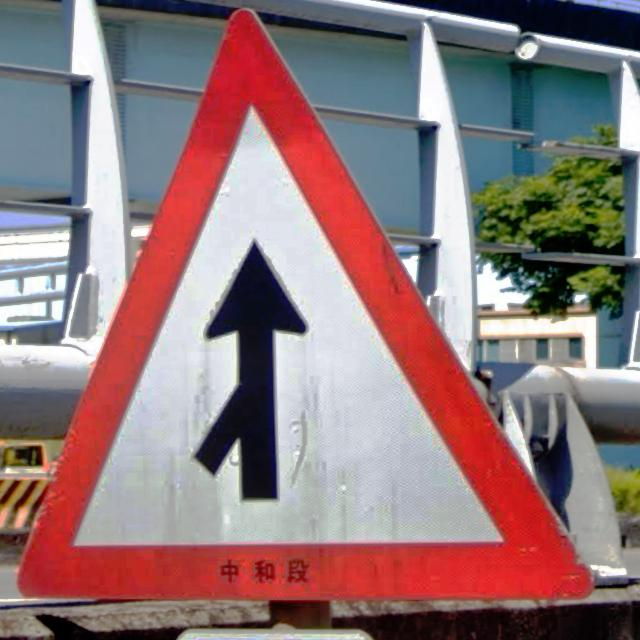leftmerge: (17, 9, 597, 604)
